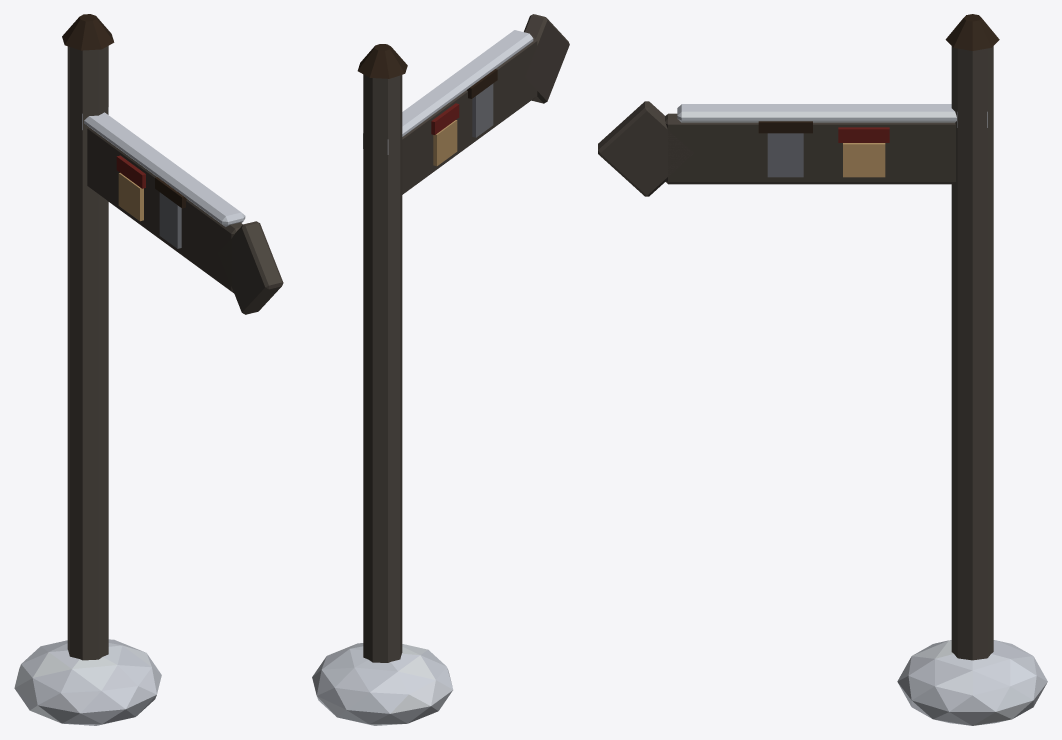
Rendered from sign_fingerpost.glb.
3 views of the same model, side by side, from view 1: azimuth 30°, elevation 25°; view 2: azimuth 150°, elevation 25°; view 3: azimuth 270°, elevation 25° (orthographic). The views are drawn at different scales.
Visible parts, largest first — view 1: sign_fingerpost; view 2: sign_fingerpost; view 3: sign_fingerpost.
Part boxes in pixels (x1,y1,x2,y2): sign_fingerpost: (14,14,283,725); sign_fingerpost: (312,14,569,725); sign_fingerpost: (598,14,1047,725).
Size of the model in its own units: 0.4755 by 2.55 by 1.49.
